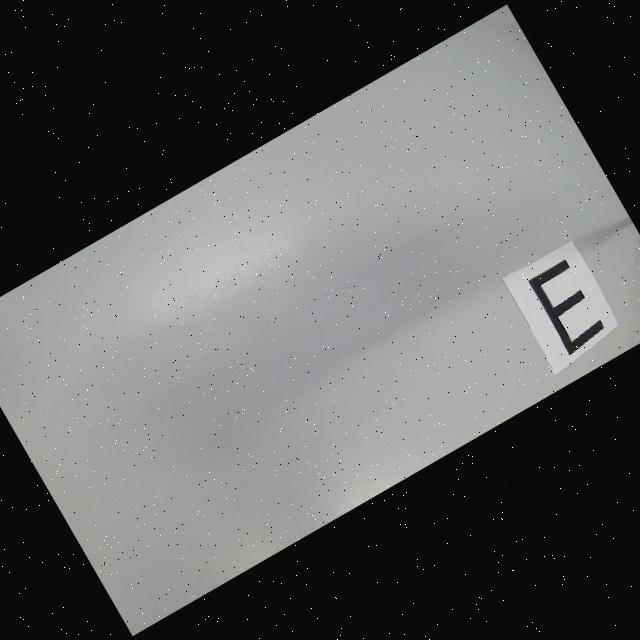FAKE: (527, 259, 609, 356)
